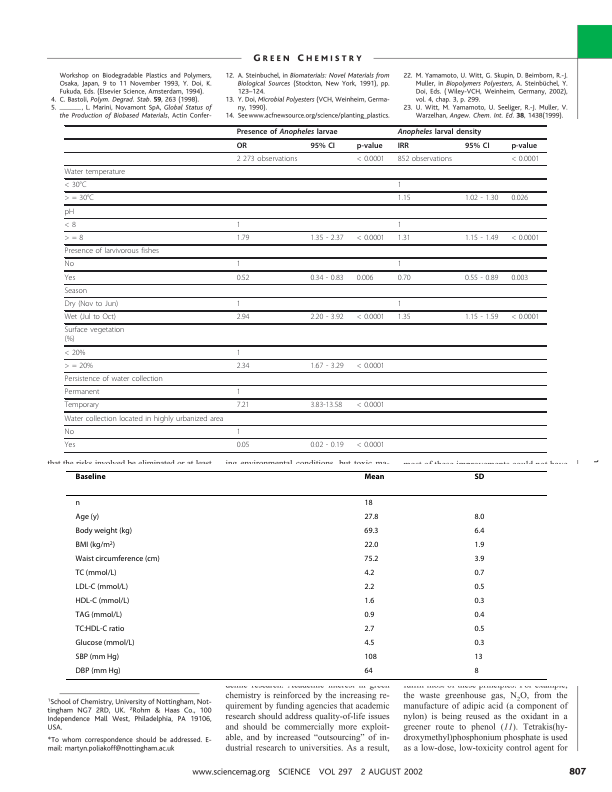borderless: (63, 124, 547, 452), (65, 469, 547, 679)
cell: (64, 414, 224, 424), (64, 326, 125, 344), (236, 128, 338, 137), (64, 375, 164, 384), (64, 247, 160, 256), (75, 554, 161, 564), (397, 128, 482, 137), (236, 154, 298, 164), (75, 638, 136, 648), (75, 526, 133, 536), (397, 154, 453, 164), (64, 168, 126, 177), (75, 596, 130, 606), (75, 582, 129, 592), (75, 624, 125, 634), (64, 300, 119, 309), (75, 610, 123, 620), (64, 313, 117, 322), (75, 666, 121, 676), (75, 652, 120, 662), (75, 568, 117, 578), (75, 540, 116, 550), (309, 273, 345, 283), (309, 361, 345, 371), (309, 440, 345, 450), (464, 273, 499, 283), (309, 234, 345, 243), (309, 313, 345, 322), (64, 388, 100, 397), (64, 401, 100, 410), (464, 194, 499, 203), (464, 234, 499, 243), (464, 313, 499, 322), (309, 401, 343, 410), (356, 154, 386, 164), (510, 154, 540, 164), (64, 361, 94, 371), (356, 361, 386, 371), (356, 440, 386, 450), (510, 141, 538, 151), (64, 194, 95, 203), (309, 141, 336, 151), (356, 141, 383, 151), (356, 234, 386, 243), (510, 234, 540, 243), (356, 313, 386, 322), (510, 313, 540, 322), (356, 401, 386, 410), (464, 141, 490, 151), (75, 472, 107, 480), (75, 512, 100, 522), (64, 286, 88, 296), (64, 348, 86, 358), (64, 181, 87, 190), (510, 273, 529, 283), (64, 234, 84, 243), (356, 273, 374, 283), (363, 472, 385, 480), (510, 194, 529, 203), (363, 512, 379, 522), (363, 526, 379, 536), (363, 540, 379, 550), (363, 554, 379, 564), (363, 652, 378, 662), (236, 273, 250, 283), (397, 273, 411, 283), (236, 361, 250, 371), (236, 440, 250, 450), (397, 141, 410, 151), (64, 220, 77, 230), (397, 194, 411, 203), (236, 234, 250, 243), (397, 234, 411, 243), (236, 313, 250, 322), (397, 313, 411, 322), (236, 401, 250, 410), (473, 512, 485, 522), (473, 526, 485, 536), (473, 540, 485, 550), (473, 554, 485, 564), (363, 568, 375, 578), (473, 568, 485, 578), (363, 582, 375, 592), (473, 582, 485, 592), (363, 596, 375, 606), (473, 596, 485, 606), (363, 610, 375, 620), (473, 610, 485, 620), (363, 624, 375, 634), (473, 624, 485, 634), (363, 638, 375, 648), (236, 141, 248, 151), (64, 273, 76, 283), (64, 440, 76, 450), (363, 498, 374, 508), (474, 638, 485, 648), (473, 652, 484, 662), (363, 666, 374, 676), (64, 207, 75, 217), (64, 427, 75, 437), (64, 260, 75, 269), (473, 472, 485, 480), (473, 666, 480, 676), (75, 498, 81, 508), (397, 220, 403, 230), (397, 181, 403, 190), (397, 260, 403, 269), (397, 300, 403, 309), (236, 220, 241, 230), (236, 348, 241, 358), (236, 427, 241, 437), (236, 260, 241, 269), (236, 300, 241, 309), (236, 388, 241, 397)
